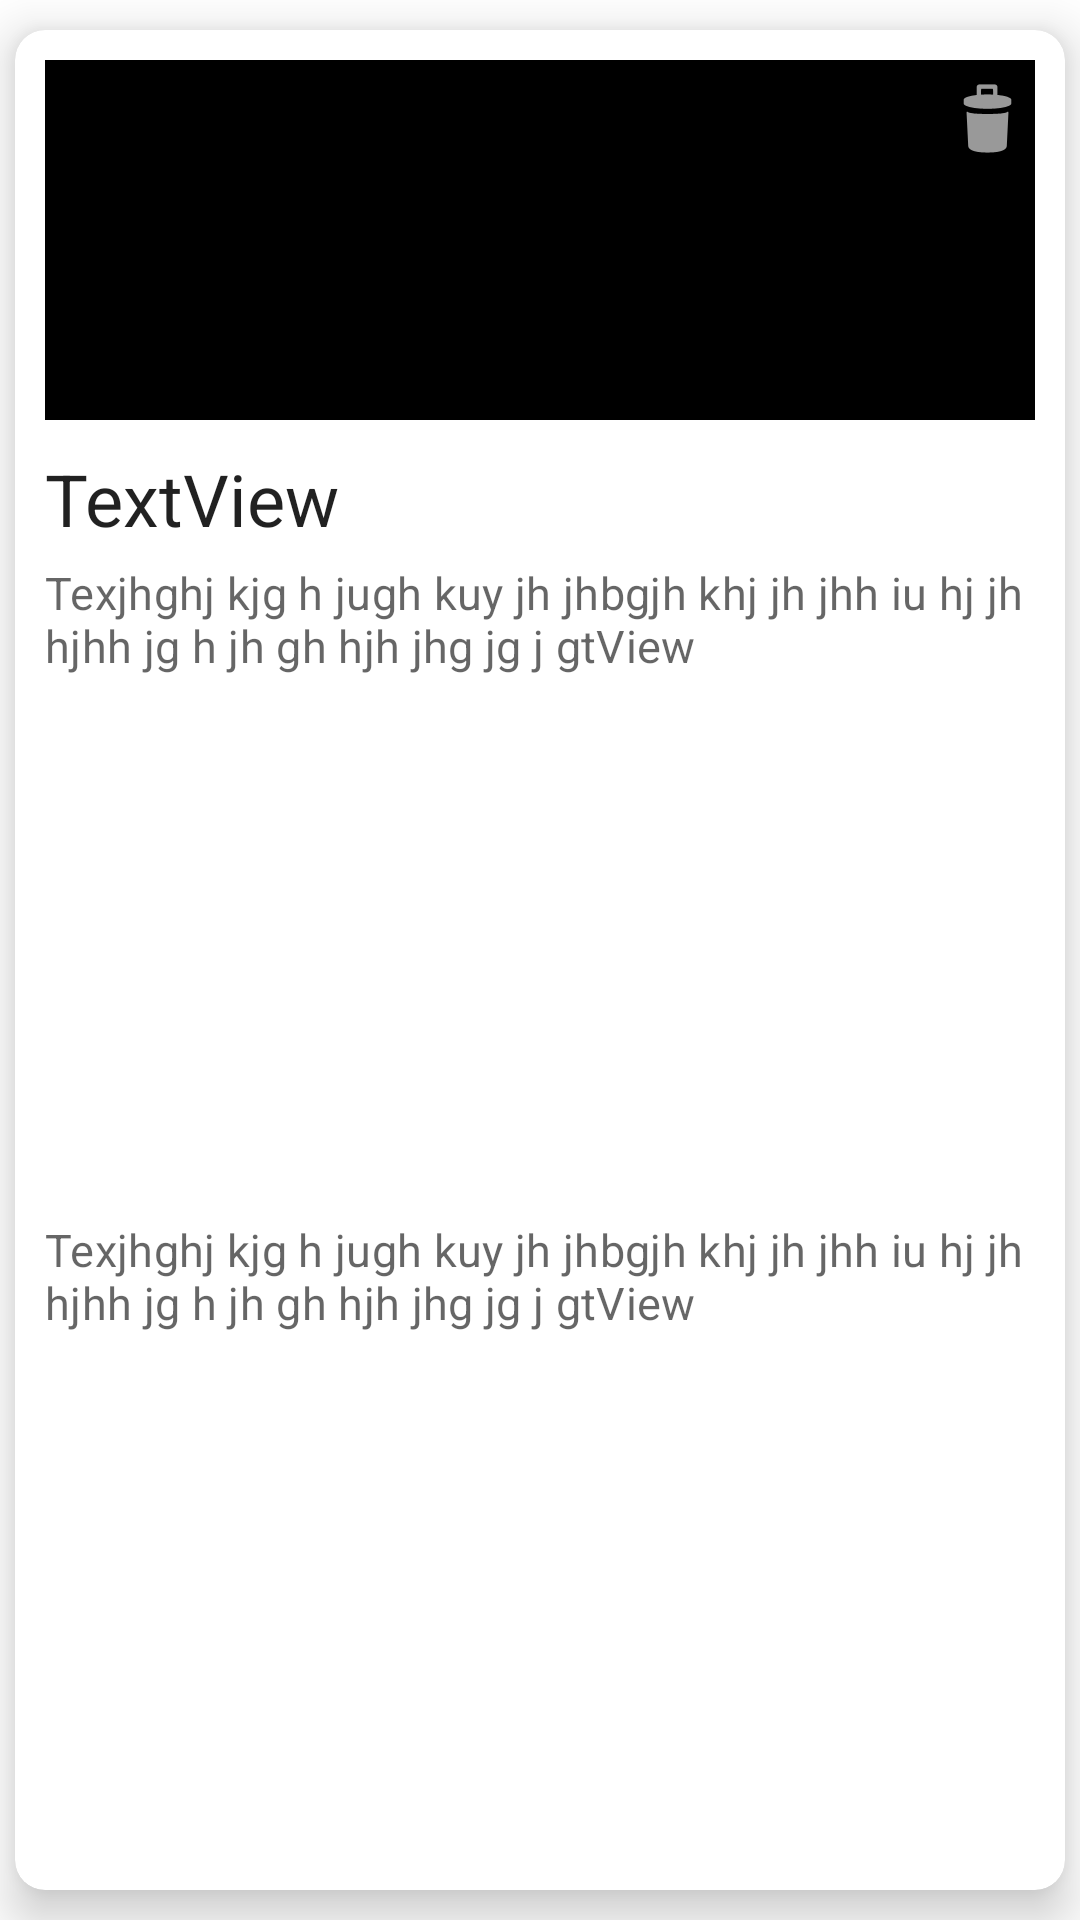

Icons on this 1080 x 1920 Android screen, each with the point to tap as (x,y):
delete: (987,118)
